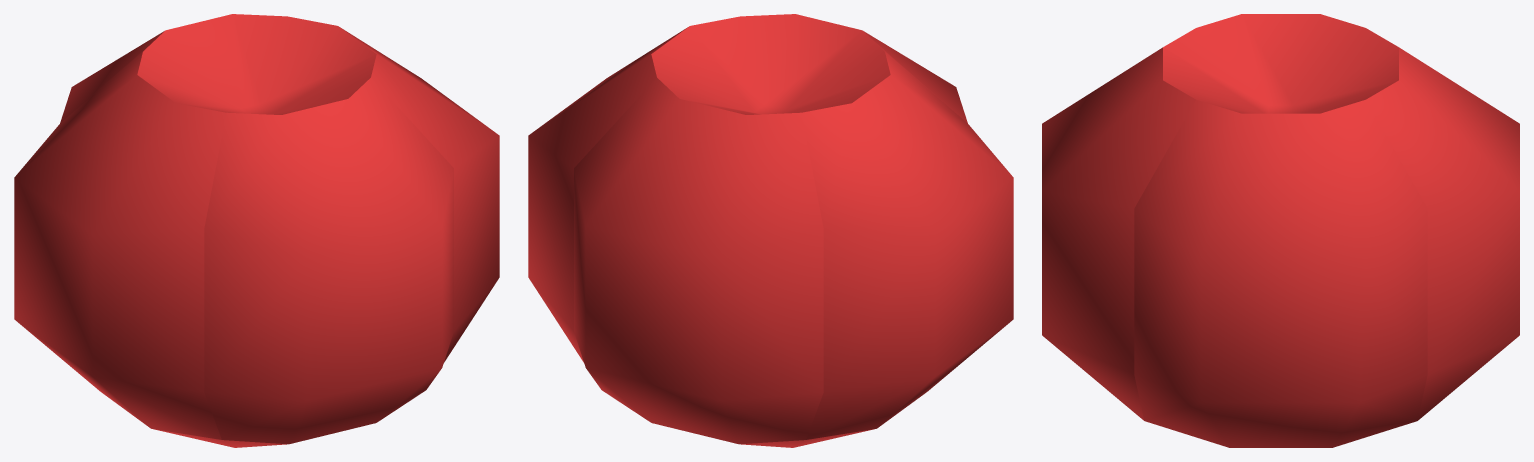
Rendered from Fruit.fbx.
3 renders of one model, left to right at view 1: azimuth 30°, elevation 25°; view 2: azimuth 150°, elevation 25°; view 3: azimuth 270°, elevation 25°, orthographic.
Parts seen in each view (by area): view 1: Fruit_Low; view 2: Fruit_Low; view 3: Fruit_Low.
Boxes of the visible parts, x1,y1,x2,y2 form: Fruit_Low: (14,14,499,447); Fruit_Low: (528,14,1013,447); Fruit_Low: (1042,14,1519,447).
Size of the model in its own units: 10.47 by 8.57 by 10.47.
